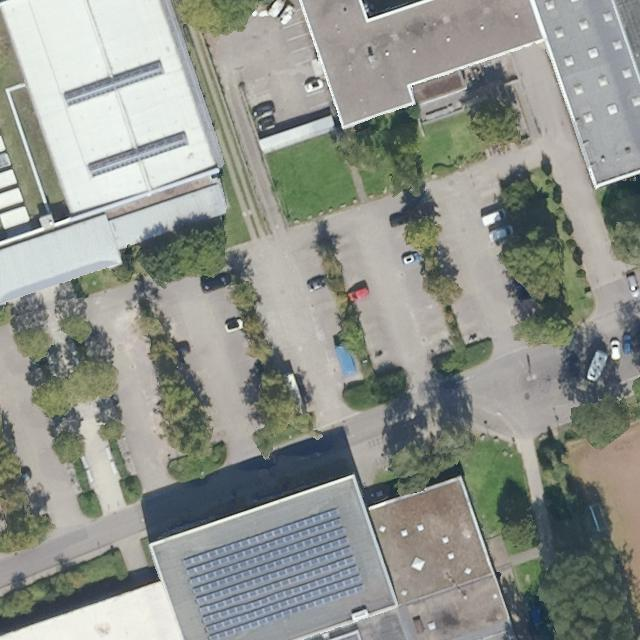PV: (182, 507, 367, 639)
